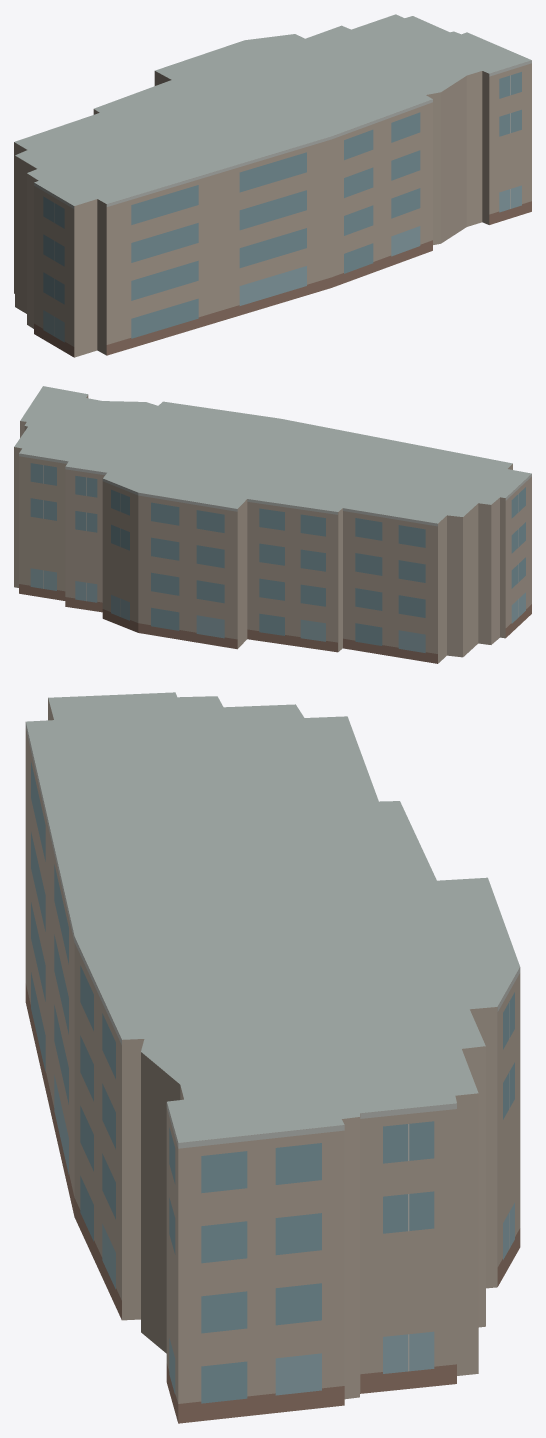
File: survey-upis-32918217.glb
3 views of the same model, one above another, from view 1: azimuth 30°, elevation 25°; view 2: azimuth 150°, elevation 25°; view 3: azimuth 270°, elevation 25° (orthographic). The views are drawn at different scales.
Parts seen in each view (by area): view 1: survey-upis-32918217.tmp; view 2: survey-upis-32918217.tmp; view 3: survey-upis-32918217.tmp.
Boxes of the visible parts, x1=… form: survey-upis-32918217.tmp: x1=14, y1=14, x2=531, y2=357; survey-upis-32918217.tmp: x1=14, y1=386, x2=531, y2=663; survey-upis-32918217.tmp: x1=25, y1=692, x2=520, y2=1423.
Size of the model in its own units: 41.7 by 12.1 by 19.34.
